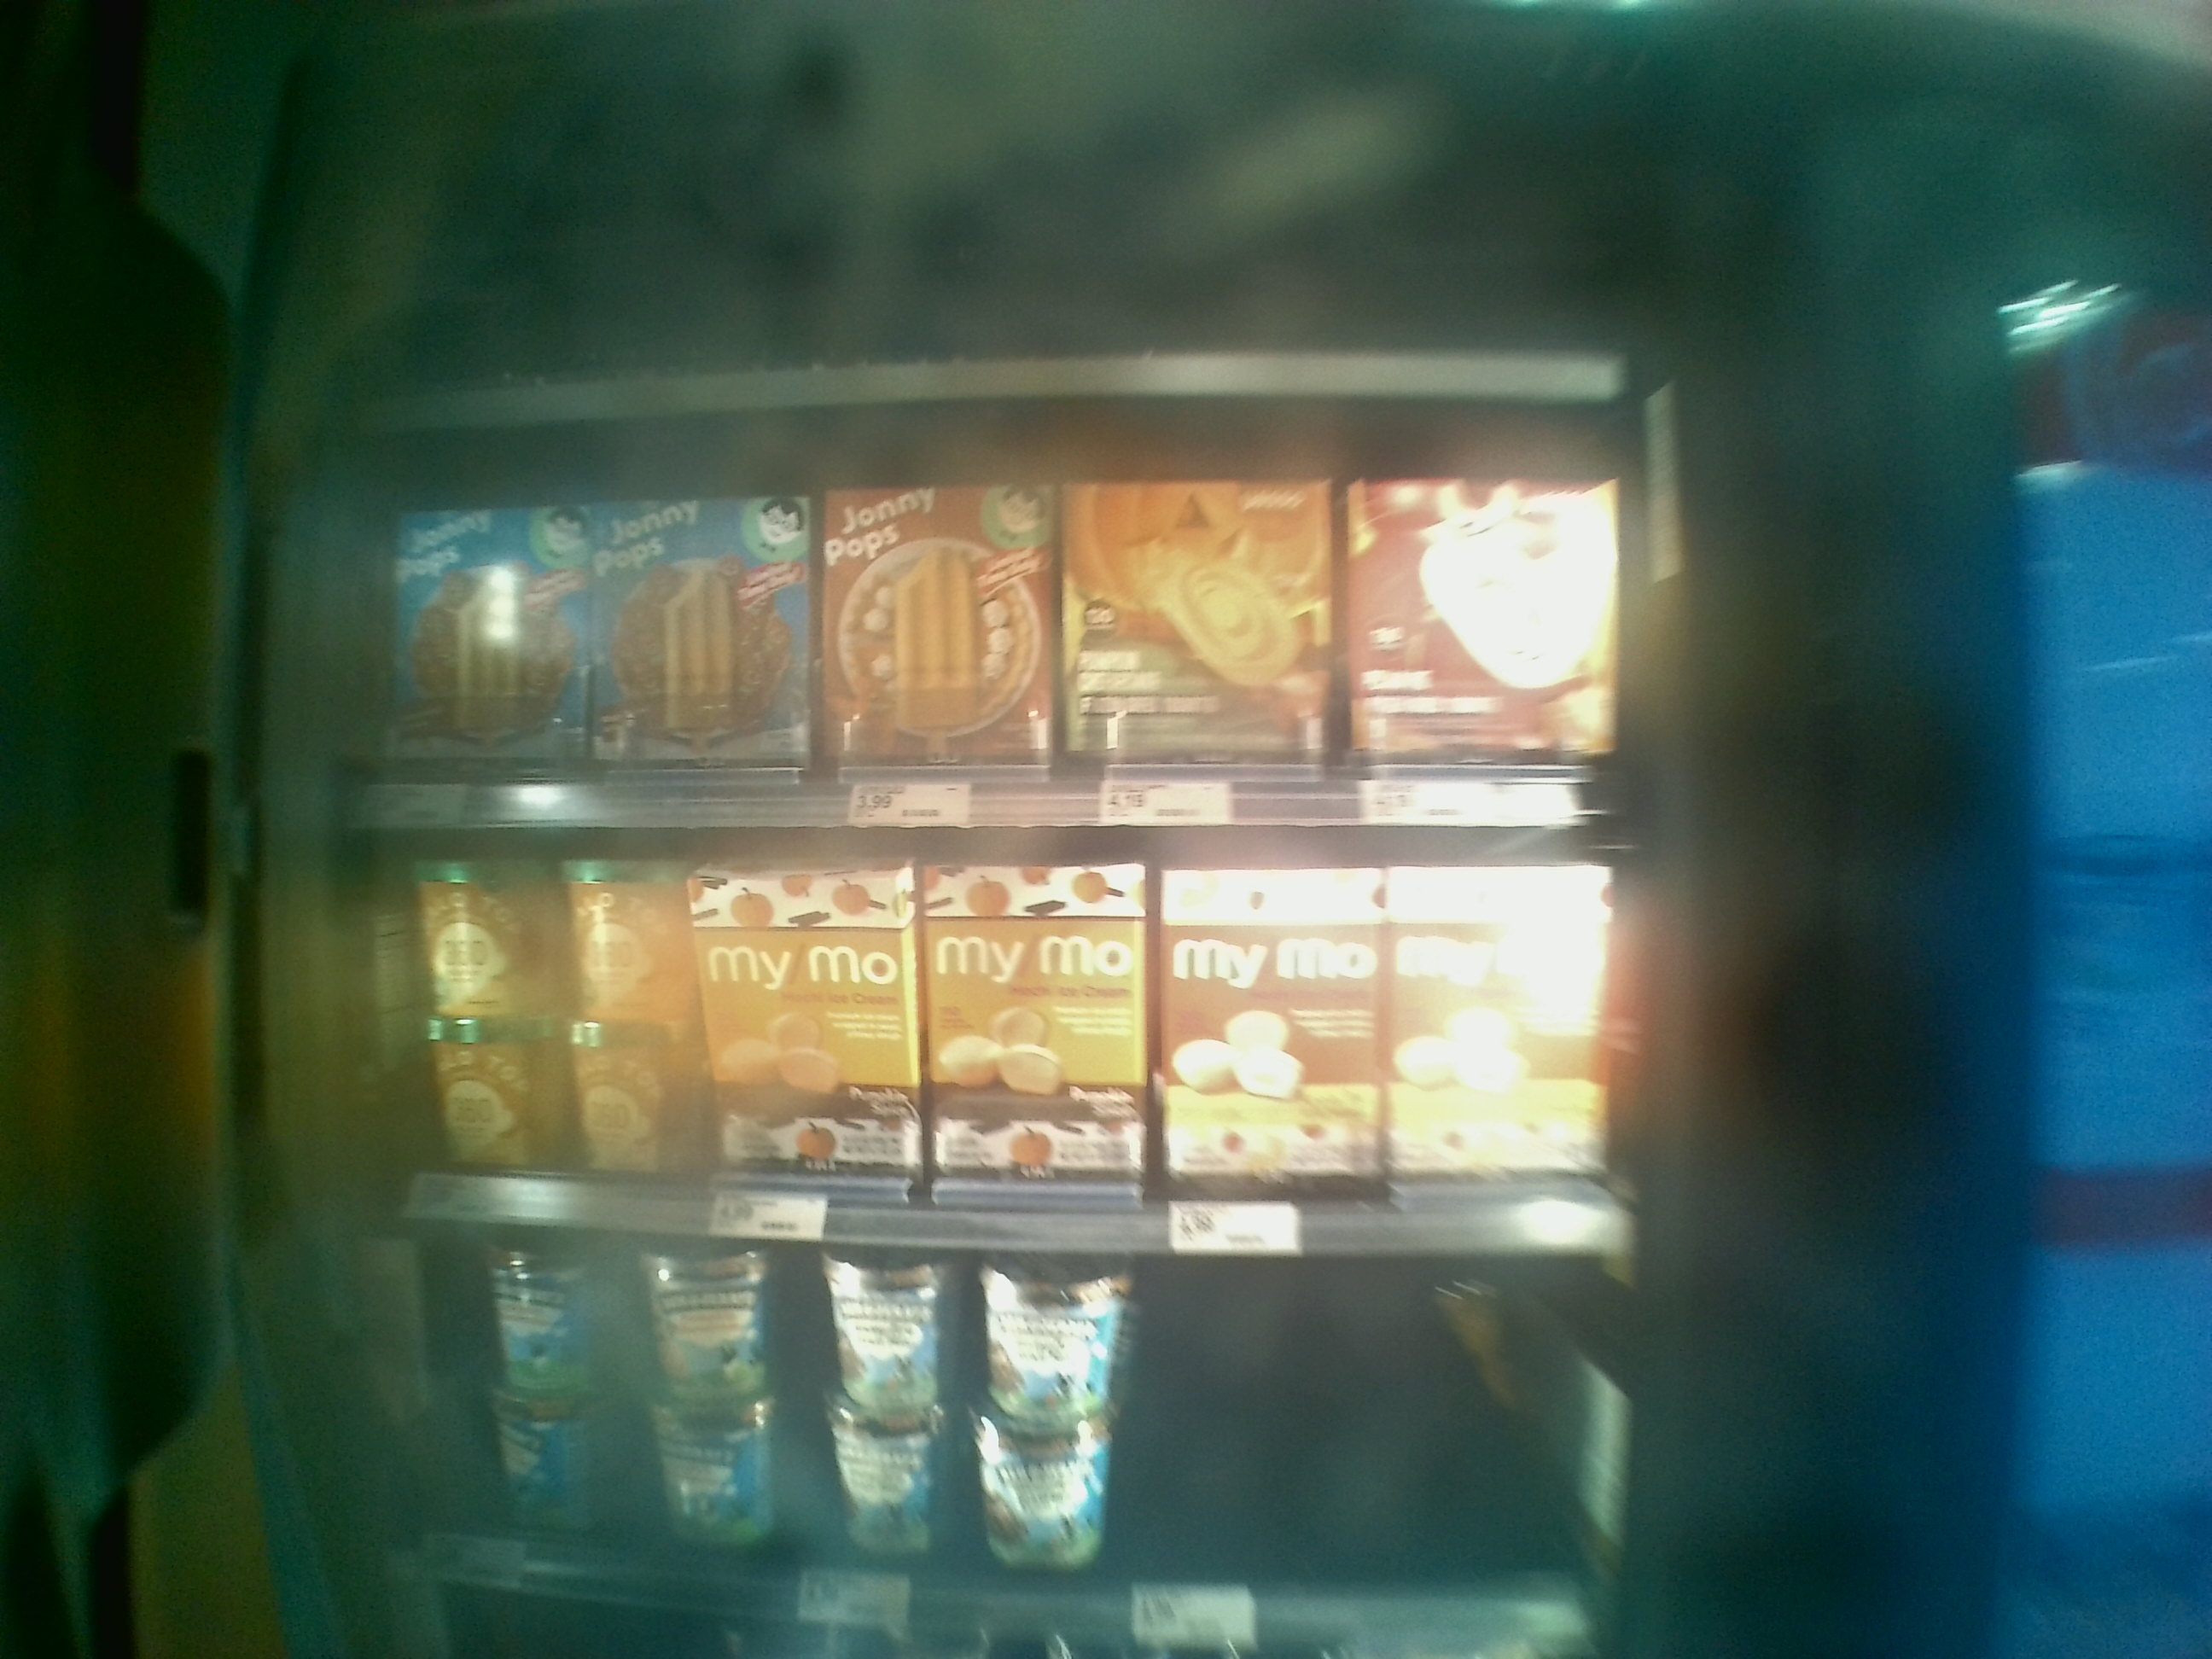shelf: (345, 415, 1634, 856), (338, 849, 1651, 1262)
